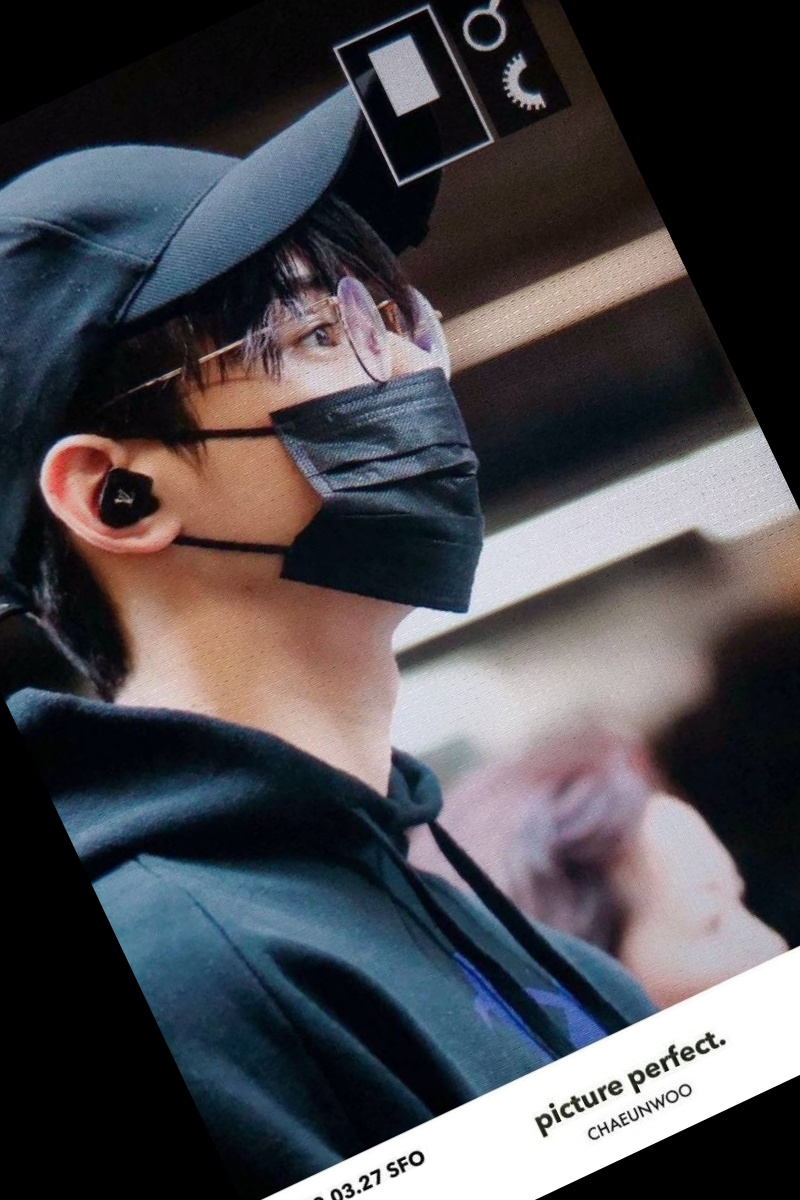earphone: (22, 403, 199, 588)
